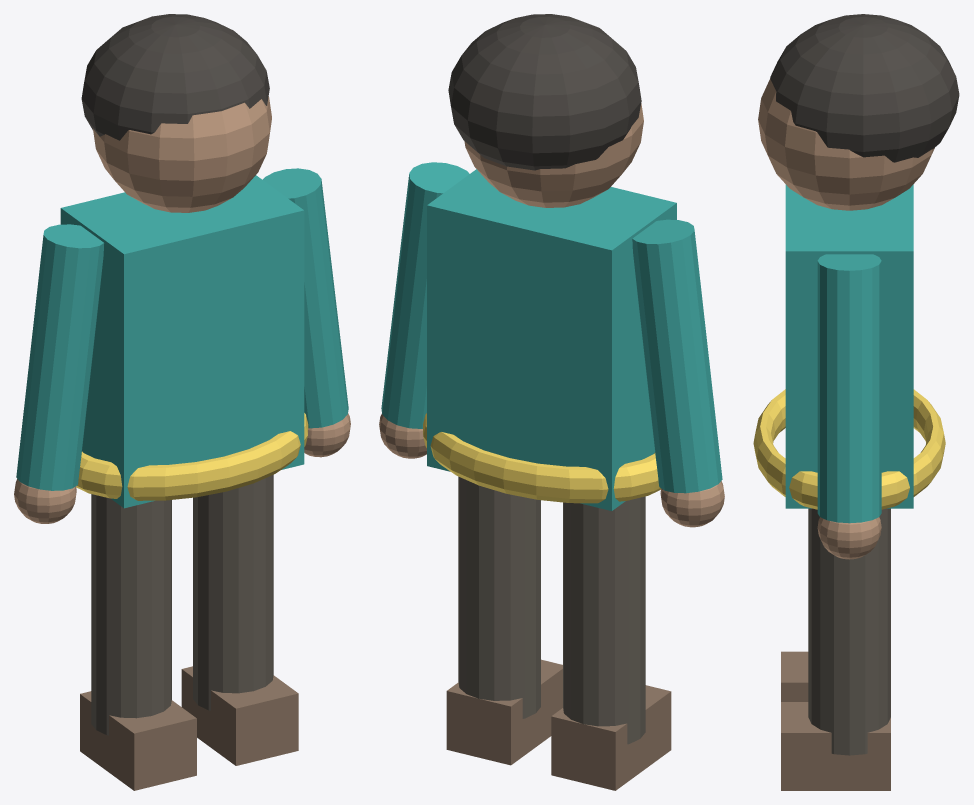
The model's file is player_avatar.fbx.
3 renders of one model, left to right at view 1: azimuth 30°, elevation 25°; view 2: azimuth 150°, elevation 25°; view 3: azimuth 270°, elevation 25°, orthographic. The views are drawn at different scales.
Visible parts, largest first — view 1: torso, leg_l, hair, leg_r, arm_l, head, arm_r, belt, boot_l, boot_r, hand_l, hand_r; view 2: torso, hair, leg_l, leg_r, arm_l, arm_r, belt, boot_l, boot_r, head, hand_l, hand_r; view 3: torso, hair, arm_r, leg_r, head, boot_r, belt, hand_r, boot_l.
Boxes of the visible parts, left/top/right/bottom form: torso: left=60, top=175, right=304, bottom=508; leg_l: left=91, top=494, right=171, bottom=735; hair: left=81, top=14, right=269, bottom=140; leg_r: left=193, top=475, right=273, bottom=710; arm_l: left=16, top=224, right=104, bottom=490; head: left=93, top=96, right=271, bottom=212; arm_r: left=262, top=168, right=348, bottom=428; belt: left=76, top=413, right=308, bottom=500; boot_l: left=80, top=691, right=196, bottom=790; boot_r: left=181, top=666, right=298, bottom=765; hand_l: left=14, top=479, right=76, bottom=523; hand_r: left=304, top=413, right=350, bottom=457; torso: left=427, top=169, right=676, bottom=510; hair: left=448, top=14, right=641, bottom=170; leg_l: left=563, top=496, right=645, bottom=744; leg_r: left=458, top=476, right=540, bottom=718; arm_l: left=632, top=219, right=722, bottom=493; arm_r: left=381, top=162, right=469, bottom=428; belt: left=423, top=413, right=660, bottom=503; boot_l: left=551, top=685, right=671, bottom=790; boot_r: left=446, top=659, right=562, bottom=765; head: left=464, top=103, right=643, bottom=207; hand_l: left=660, top=481, right=724, bottom=527; hand_r: left=379, top=414, right=426, bottom=458; torso: left=785, top=184, right=913, bottom=508; hair: left=770, top=14, right=959, bottom=162; arm_r: left=817, top=254, right=881, bottom=523; leg_r: left=808, top=508, right=890, bottom=755; head: left=758, top=78, right=934, bottom=210; boot_r: left=781, top=702, right=890, bottom=790; belt: left=753, top=389, right=945, bottom=509; hand_r: left=817, top=517, right=881, bottom=559; boot_l: left=781, top=651, right=808, bottom=701.
Size of the model in its own units: 0.84 by 1.75 by 0.45.
